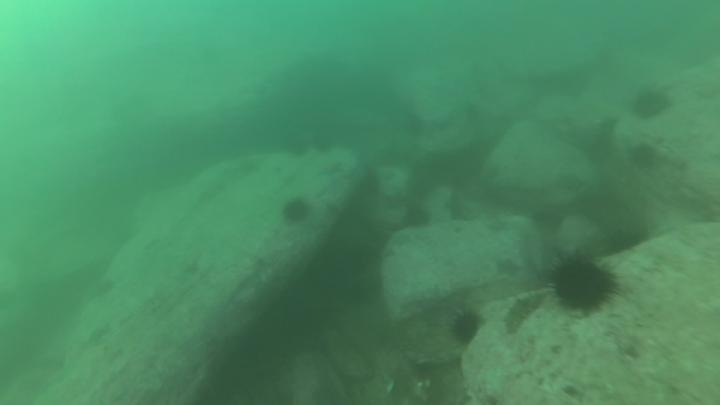echinus: (543, 247, 621, 318), (444, 306, 486, 347), (633, 88, 673, 122), (625, 139, 659, 172), (279, 196, 313, 229), (403, 204, 434, 230)
holothurian: (501, 290, 548, 338)
starfish: (554, 169, 592, 198), (492, 254, 524, 283), (484, 213, 515, 237), (313, 159, 347, 179)
